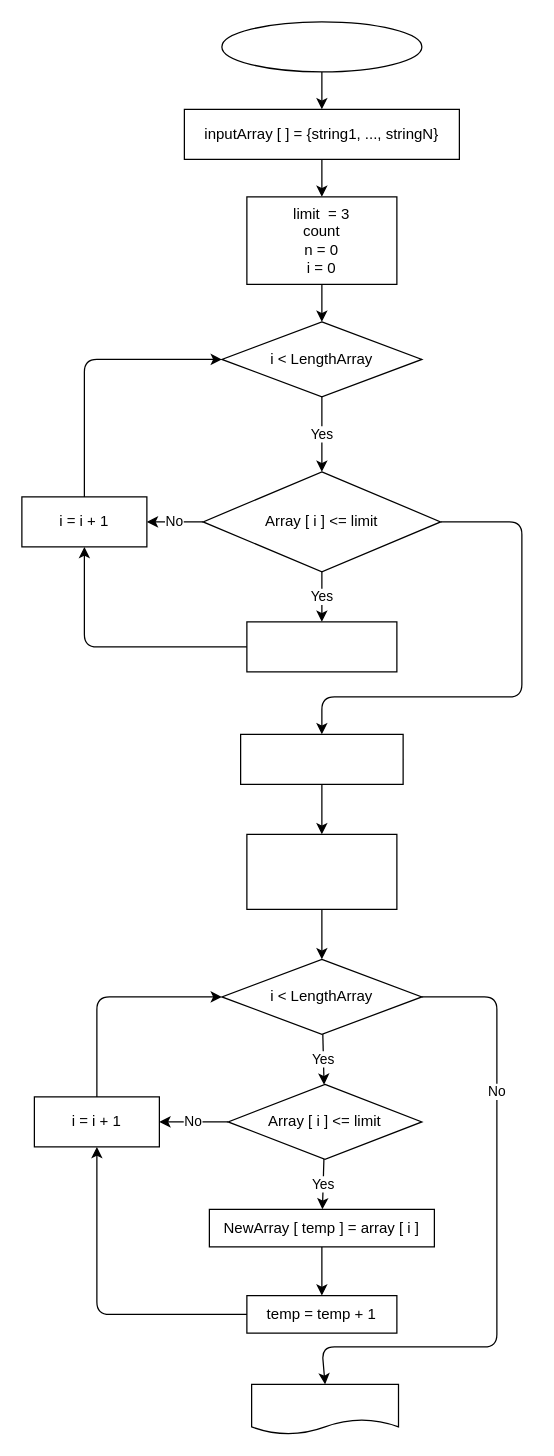
Some shapes in this 554 by 1456 pixel diagram are drawn without their labels. The shapes that lost their labels are listed below. From the top down, each one's box as (x1, y1, x2, y2) in pixels, then its label:
(221, 21, 422, 72): Start
(246, 621, 397, 672): n = n + 1
(239, 733, 403, 784): output = newArray [ ]
(246, 833, 397, 909): count tenp = 0 i = 0
(250, 1383, 398, 1434): NewArray
